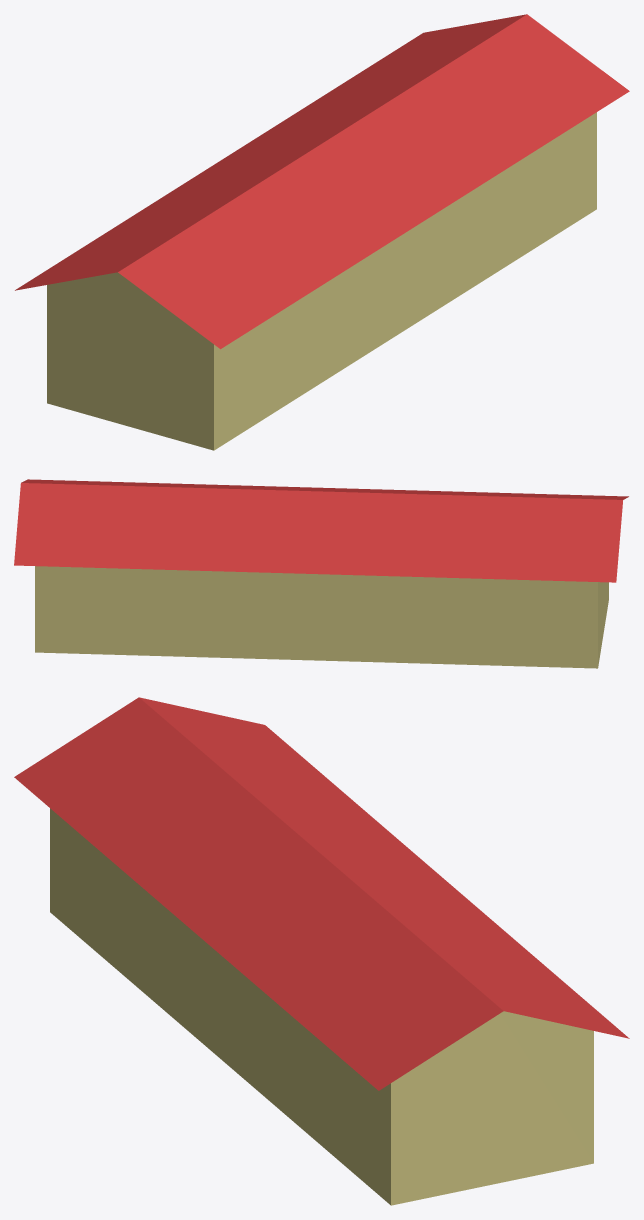
The picture shows the model from 3 angles, top to bottom: view 1: azimuth 30°, elevation 25°; view 2: azimuth 150°, elevation 25°; view 3: azimuth 270°, elevation 25°; orthographic projection. The views are drawn at different scales.
Bounding box in the file's own units: 32.21 × 22.91 × 7.54.
